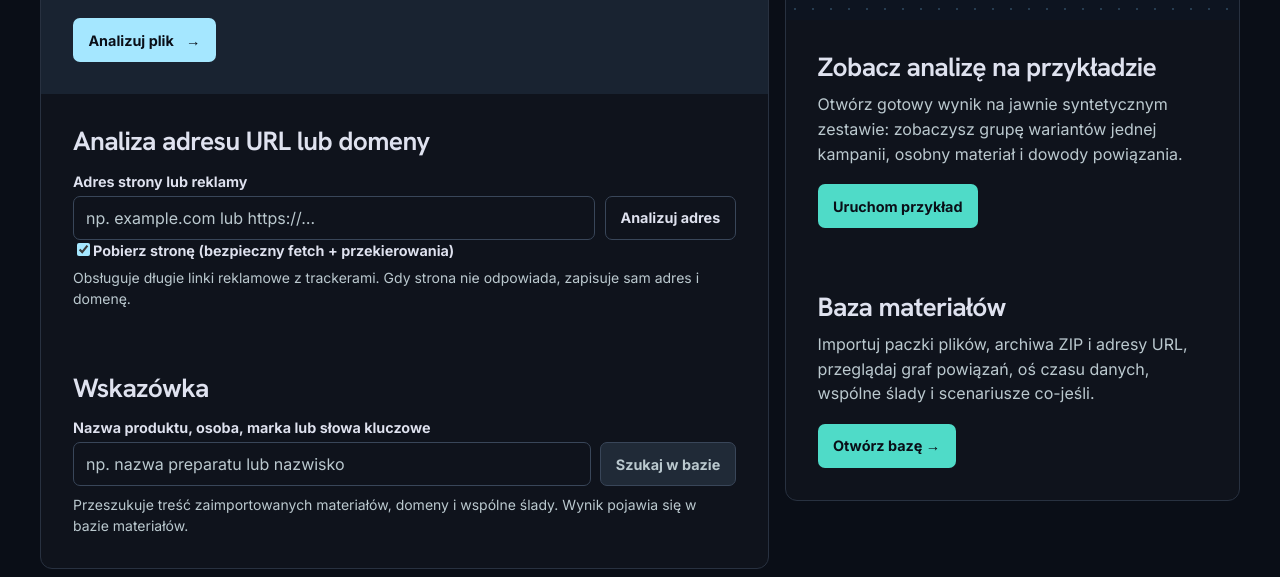
Test: ekran startowy › błąd API przy dodawaniu: pokazuje komunikat z kontraktu
The image size is (1280, 577).
(page scrolled)
Type "https://x.invalid/a" into the field labelled "Adres strony lub reklamy" at (334, 218), box x1=73 y1=196 x2=596 y2=240
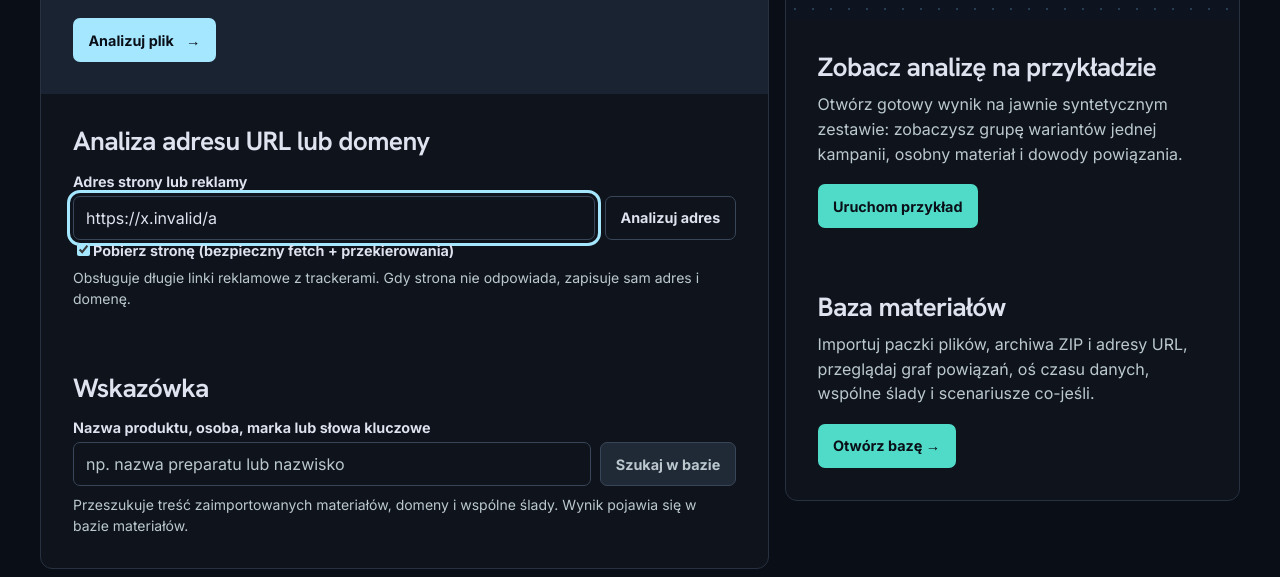
Click the button "Analizuj adres" at (670, 218), box x1=605 y1=196 x2=736 y2=240
(page scrolled)
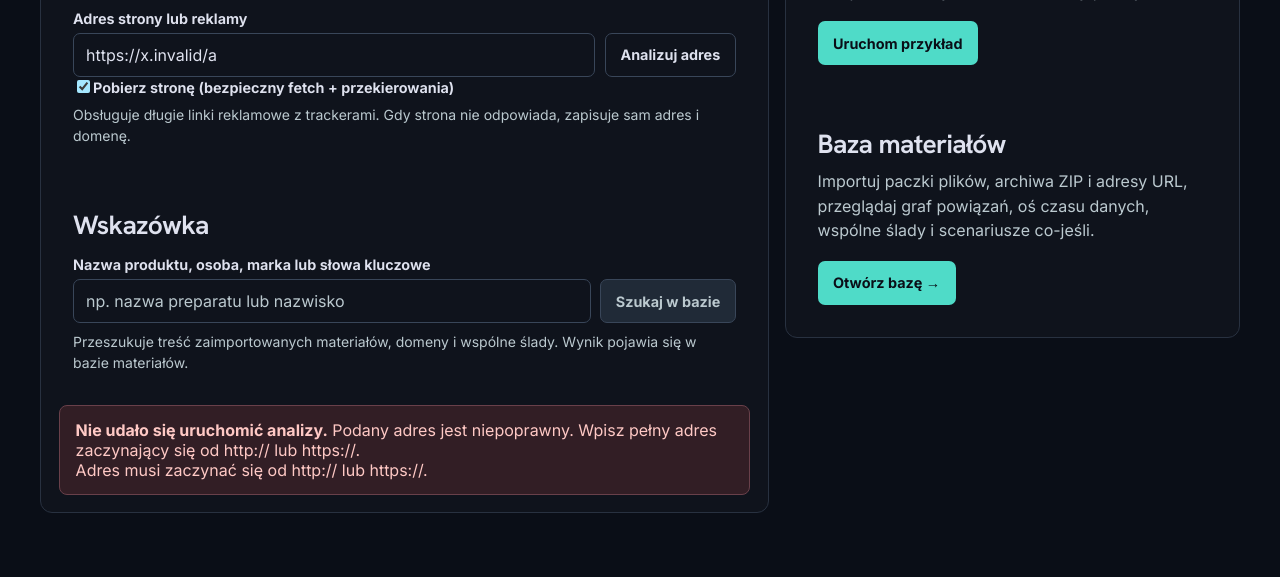
Now the message shows "Podany adres jest niepoprawny", box x1=76 y1=420 x2=717 y2=460
